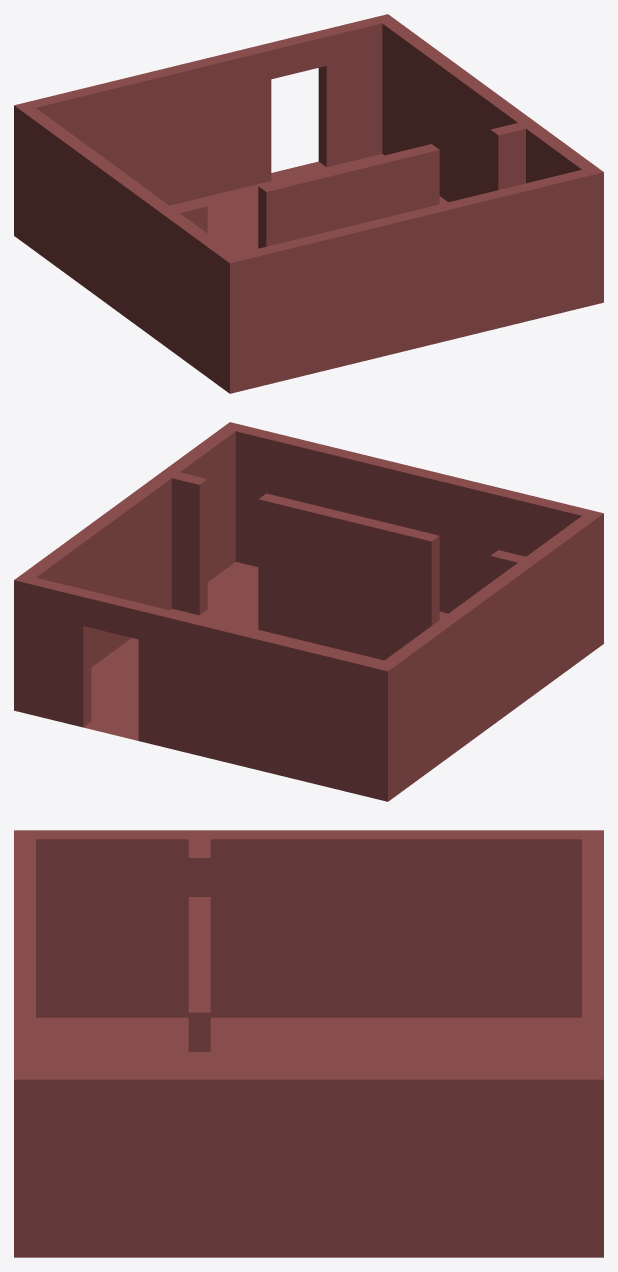
Rendered from Basement_1_MASTER.fbx.
3 renders of one model, top to bottom at view 1: azimuth 30°, elevation 25°; view 2: azimuth 150°, elevation 25°; view 3: azimuth 270°, elevation 25°, orthographic. The views are drawn at different scales.
Visible parts, largest first — view 1: Basement; view 2: Basement; view 3: Basement.
Boxes of the visible parts, x1=… form: Basement: x1=14, y1=14, x2=603, y2=393; Basement: x1=14, y1=422, x2=603, y2=801; Basement: x1=14, y1=830, x2=603, y2=1257.
Bounding box in the file's own units: 324 × 108 × 324.
